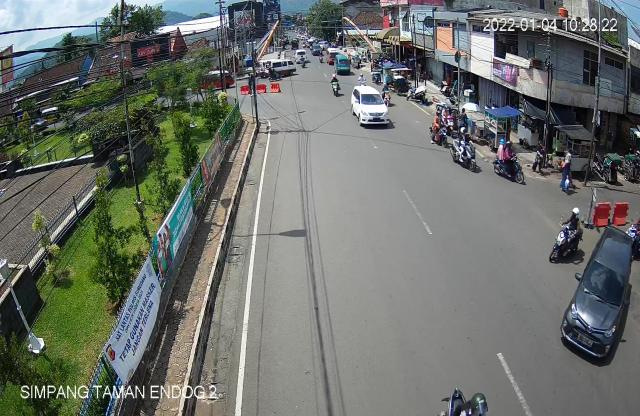Mobil: (557, 224, 638, 361), (347, 81, 394, 130)
Motor: (549, 208, 585, 264), (492, 138, 529, 187), (449, 124, 483, 175), (424, 110, 448, 150)
